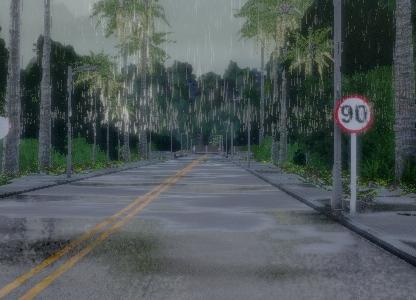Speed_90: (337, 92, 374, 136)
